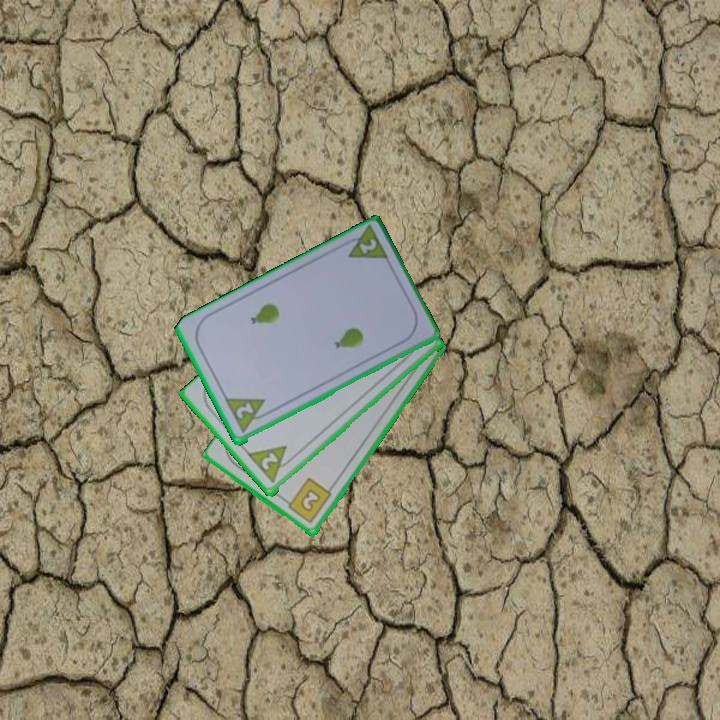2b: (280, 475, 334, 526)
2p: (222, 394, 273, 437), (257, 449, 281, 473), (355, 235, 380, 257)
